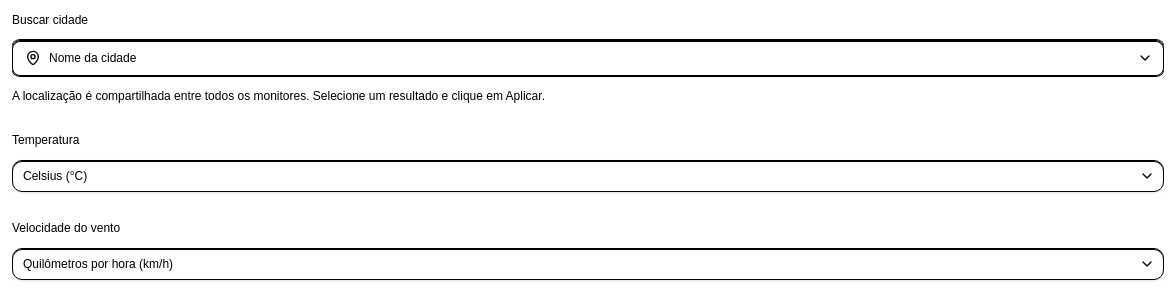
Test: persists the exact city chosen via keyboard among namesakes in different countries
The width and height of the screenshot is (1176, 298).
Type "Rio Grande" into the dropdown labelled "Buscar cidade" at (587, 58), box [41,40,1133,76]
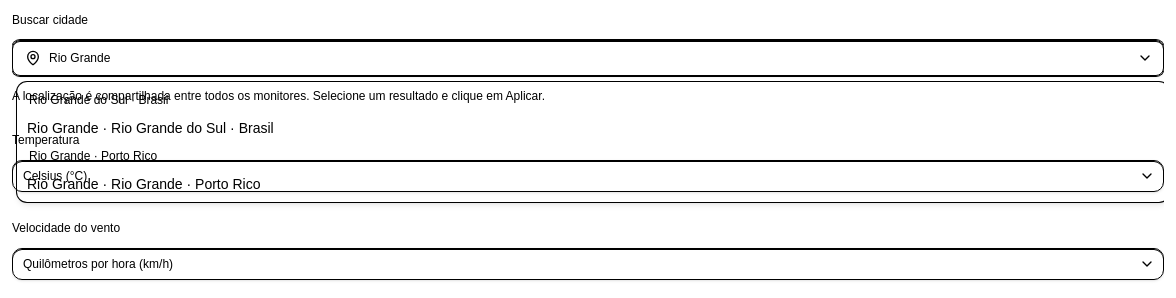
Press ArrowDown in the dropdown labelled "Buscar cidade", box [41,40,1133,76]
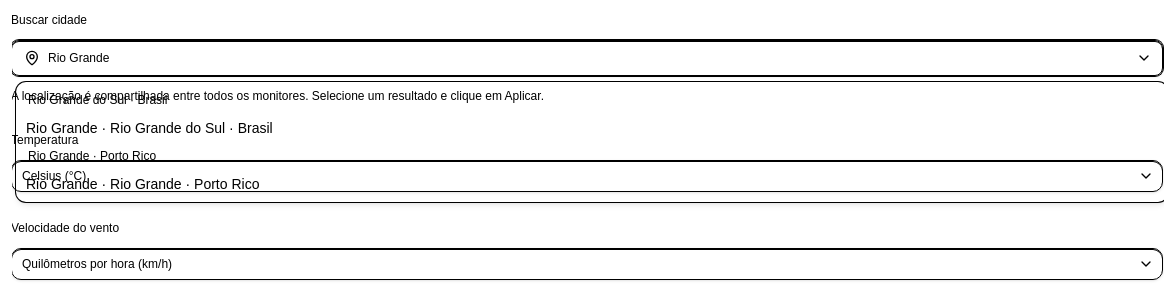
Press Enter in the dropdown labelled "Buscar cidade", box [40,40,1132,76]
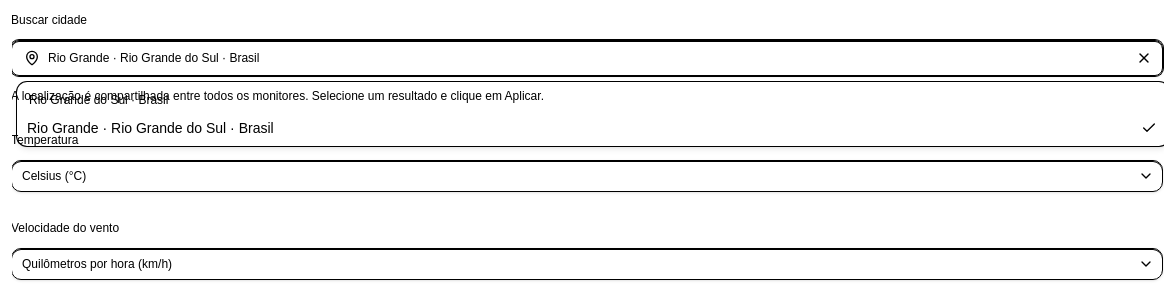
Check: the dropdown labelled "Buscar cidade" holds "Rio Grande · Rio Grande do Sul · Brasil"
Replace the text in the dropdown labelled "Buscar cidade" with "Rio Grande" at (586, 58), box [40,40,1132,76]
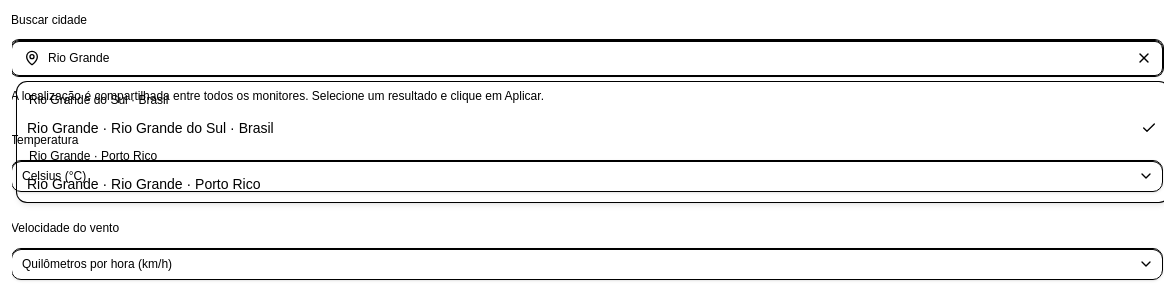
Press ArrowDown in the dropdown labelled "Buscar cidade", box [40,40,1132,76]
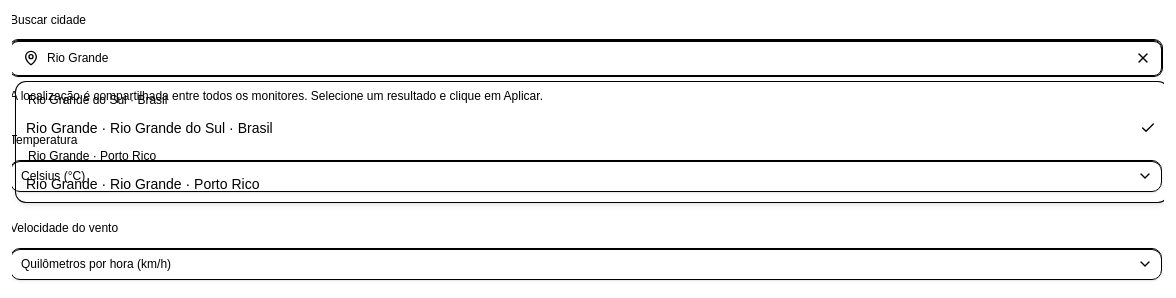
Press ArrowDown in the dropdown labelled "Buscar cidade", box [39,40,1131,76]
Press Enter in the dropdown labelled "Buscar cidade", box [39,40,1131,76]
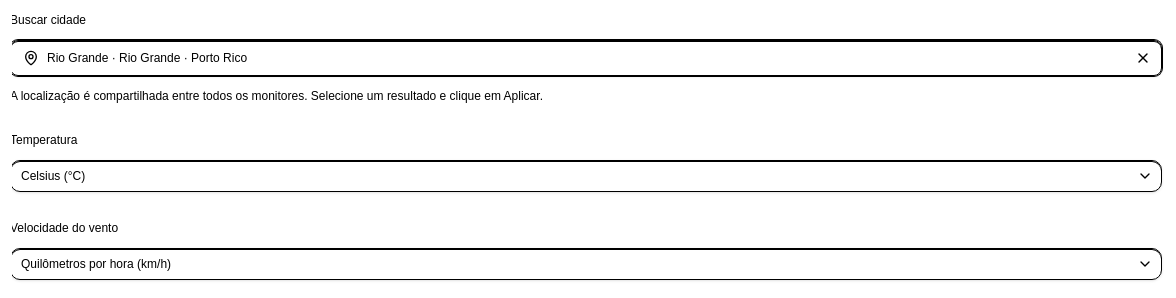
Check: the dropdown labelled "Buscar cidade" holds "Rio Grande · Rio Grande · Porto Rico", box [39,40,1131,76]
